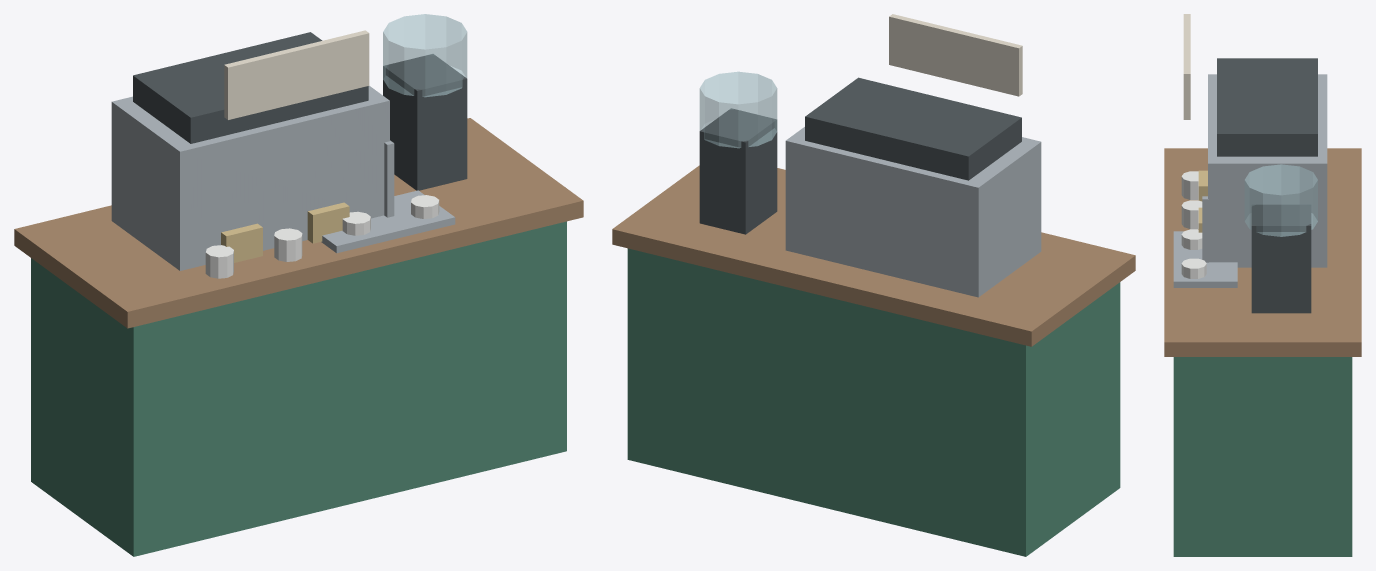
File: cafe_bar.glb
3 views of the same model, side by side, from view 1: azimuth 30°, elevation 25°; view 2: azimuth 150°, elevation 25°; view 3: azimuth 270°, elevation 25° (orthographic). The views are drawn at different scales.
Parts seen in each view (by area): view 1: cafe_bar; view 2: cafe_bar; view 3: cafe_bar.
Part boxes in pixels (<box>): cafe_bar: <box>14,14,583,556</box>; cafe_bar: <box>612,14,1135,556</box>; cafe_bar: <box>1164,14,1361,556</box>.
Size of the model in its own units: 2 by 1.93 by 0.86.
